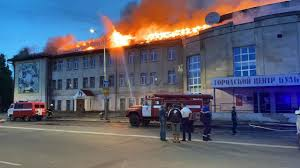fire: (64, 21, 242, 61)
